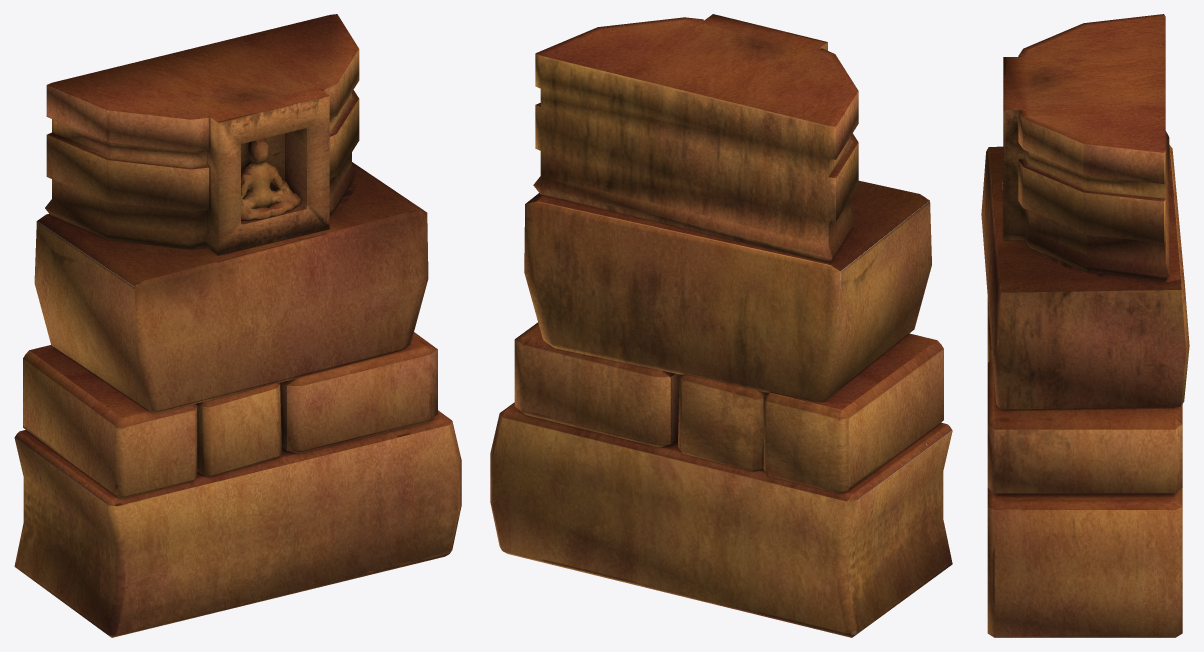
The model's file is shrineBlocks.glb.
The picture shows the model from 3 angles, left to right: view 1: azimuth 30°, elevation 25°; view 2: azimuth 150°, elevation 25°; view 3: azimuth 270°, elevation 25°; orthographic projection. The views are drawn at different scales.
Visible parts, largest first — view 1: shrine-convcol; view 2: shrine-convcol; view 3: shrine-convcol.
Part boxes in pixels (x1,y1,x2,y2): shrine-convcol: (14, 14, 461, 637); shrine-convcol: (490, 14, 952, 637); shrine-convcol: (981, 14, 1189, 637).
Bounding box in the file's own units: 0.8238 × 1.08 × 0.4272.
Materials: 1 (1 with a texture image).
